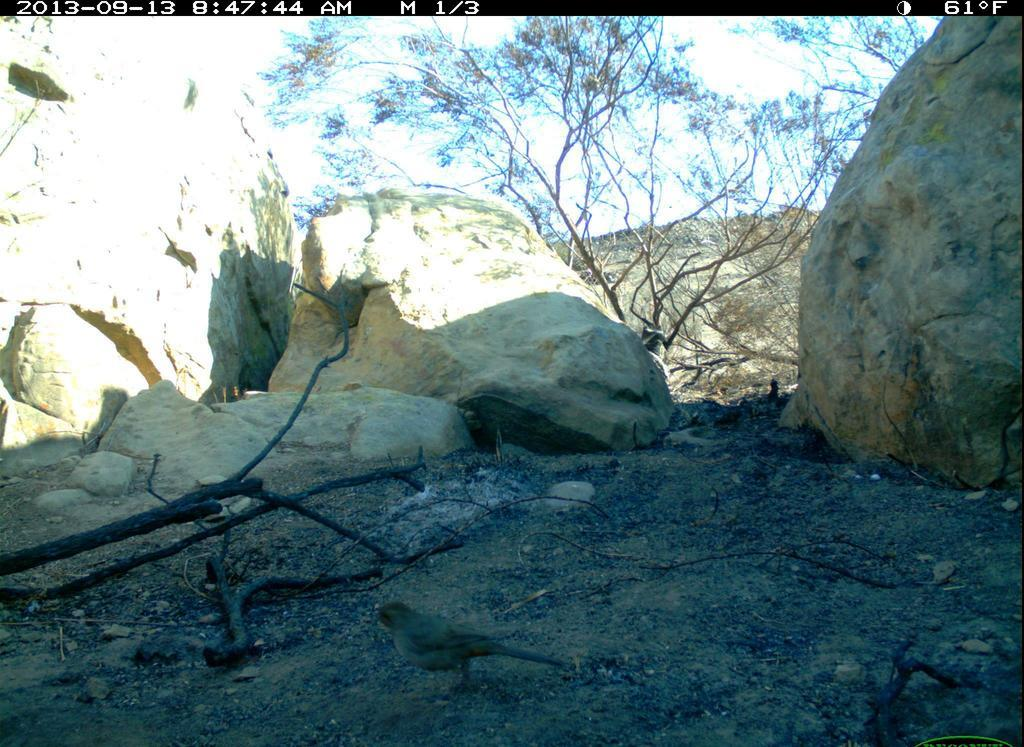bird: (364, 591, 571, 706)
